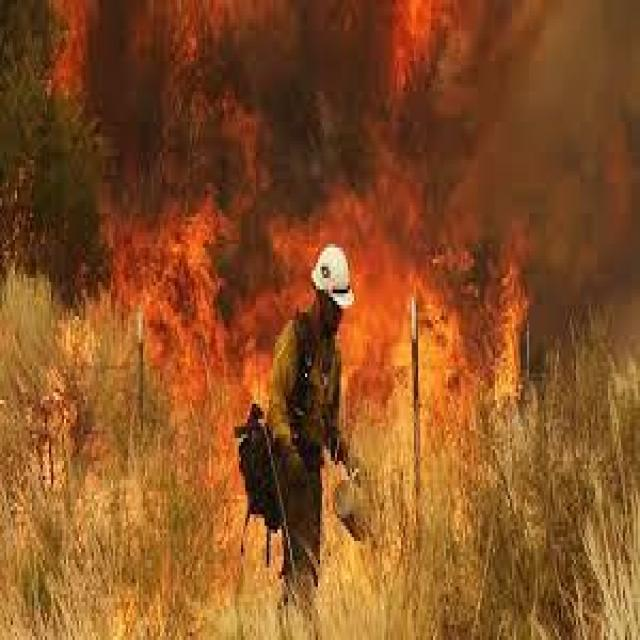fire: (141, 69, 523, 434)
smoke: (179, 9, 383, 212), (483, 0, 632, 275), (38, 6, 159, 233)
